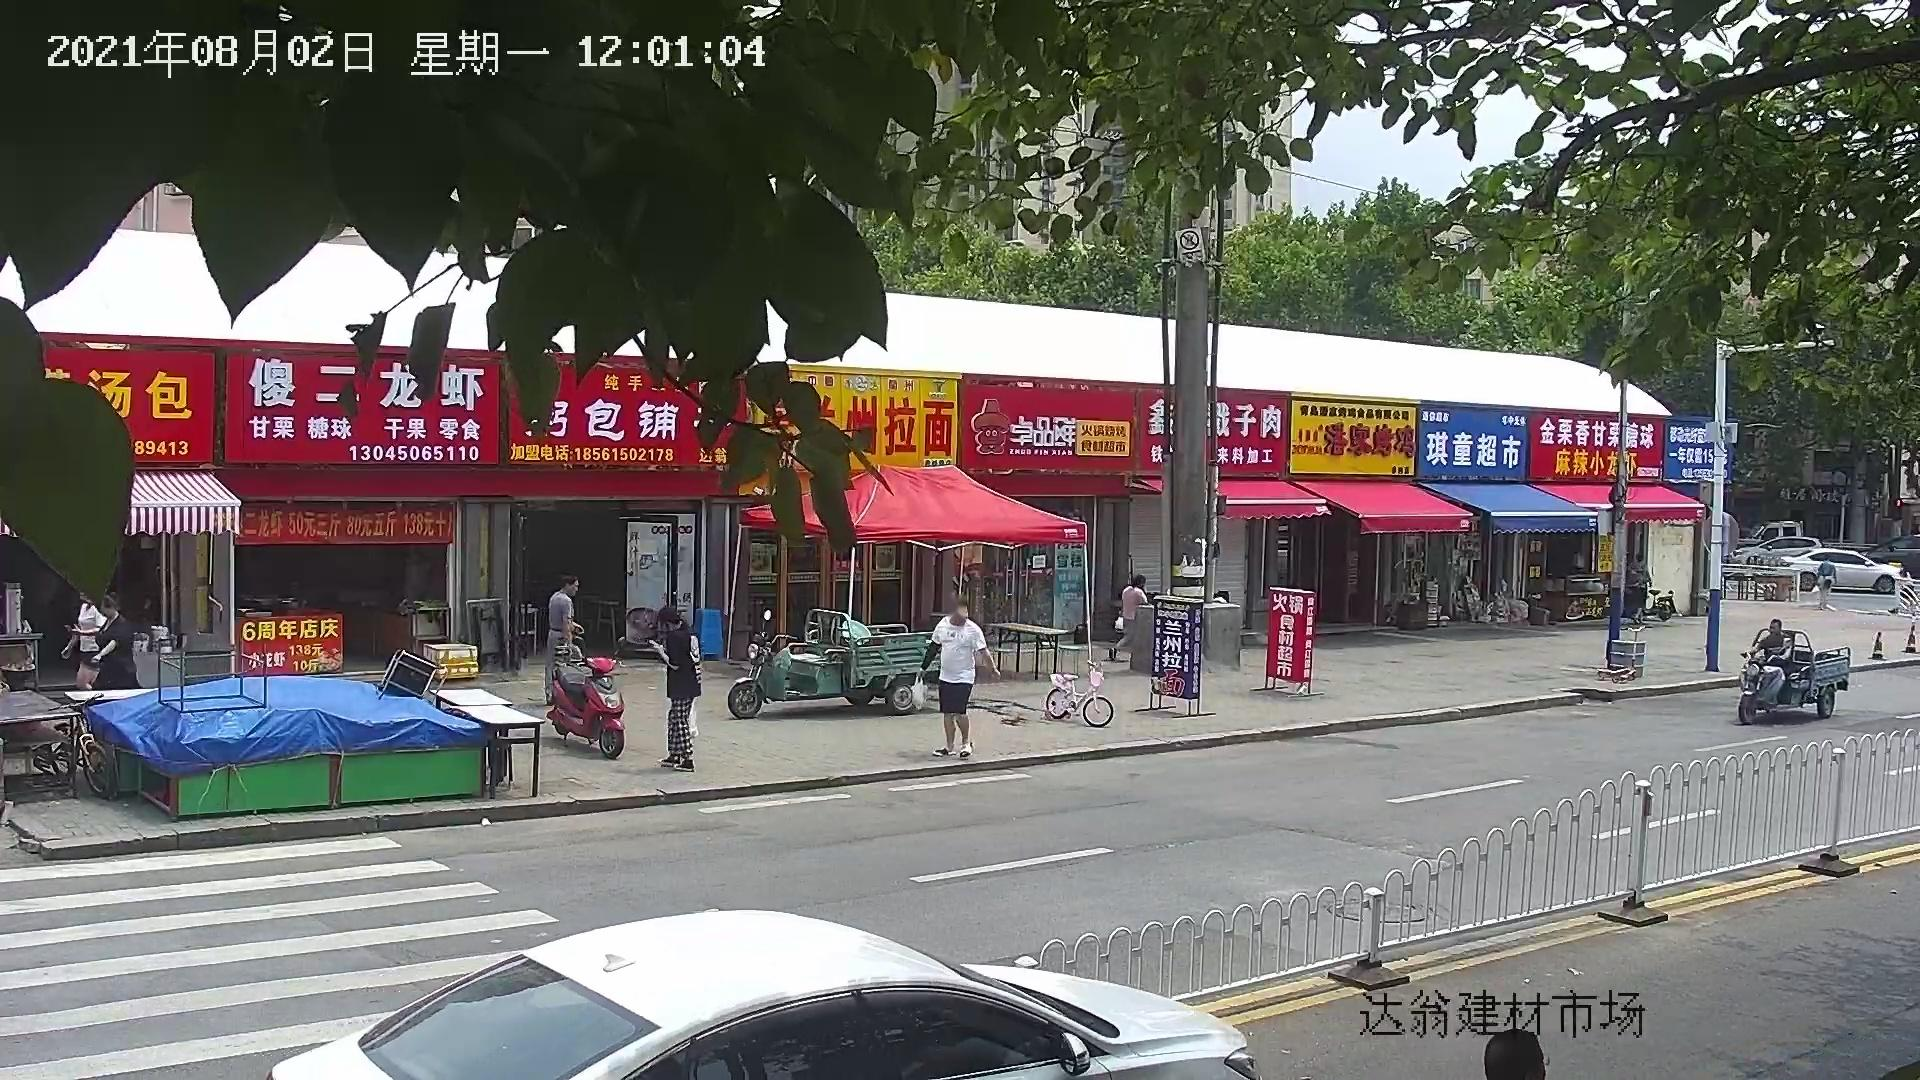chair: (692, 607, 723, 659), (1058, 644, 1083, 676), (1033, 640, 1055, 673)
table: (447, 704, 546, 798), (3, 687, 83, 796), (984, 621, 1069, 680), (429, 687, 514, 705)
table_chair: (982, 620, 1083, 680)
umbrella: (737, 465, 1087, 545)
